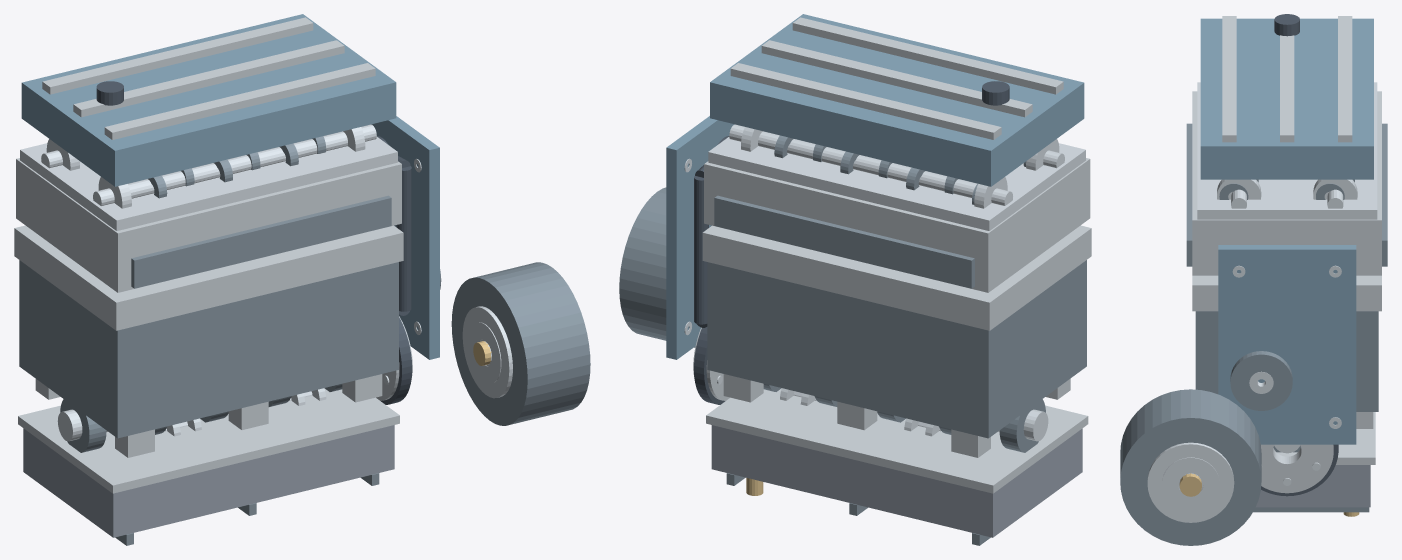
Rendered from fwd-i4-batch-02.glb.
3 views of the same model, side by side, from view 1: azimuth 30°, elevation 25°; view 2: azimuth 150°, elevation 25°; view 3: azimuth 270°, elevation 25° (orthographic). The views are drawn at different scales.
Parts seen in each view (by area): view 1: engine.block.cast, engine.valve.cover, engine.cylinder.head, engine.oil.pan, gearbox.differential.carrier, engine.timing.cover, engine.cam.exhaust, engine.crankshaft, gearbox.differential.side, engine.timing.belt, engine.crankshaft.pulley, engine.cam.intake; view 2: engine.block.cast, engine.valve.cover, engine.cylinder.head, engine.oil.pan, engine.timing.cover, gearbox.differential.carrier, engine.cam.intake, engine.crankshaft, engine.timing.belt, engine.crankshaft.pulley, engine.cam.exhaust; view 3: engine.valve.cover, engine.timing.cover, engine.cylinder.head, gearbox.differential.carrier, engine.block.cast, engine.oil.pan, gearbox.differential.side, engine.crankshaft.pulley, engine.timing.tensioner, engine.cam.intake, engine.cam.exhaust.
Part boxes in pixels (x1,y1,x2,y2): engine.block.cast: (14, 225, 403, 457); engine.valve.cover: (21, 14, 396, 186); engine.cylinder.head: (16, 136, 401, 292); engine.oil.pan: (18, 389, 399, 545); gearbox.differential.carrier: (451, 262, 590, 425); engine.timing.cover: (371, 116, 439, 359); engine.cam.exhaust: (93, 124, 376, 208); engine.crankshaft: (57, 384, 342, 452); gearbox.differential.side: (462, 306, 512, 398); engine.timing.belt: (377, 136, 411, 315); engine.crankshaft.pulley: (376, 316, 412, 404); engine.cam.intake: (41, 139, 79, 170); engine.block.cast: (702, 225, 1091, 457); engine.valve.cover: (710, 14, 1084, 186); engine.cylinder.head: (704, 137, 1090, 292); engine.oil.pan: (706, 388, 1088, 545); engine.timing.cover: (666, 116, 734, 359); gearbox.differential.carrier: (619, 187, 695, 347); engine.cam.intake: (729, 124, 1012, 208); engine.crankshaft: (763, 384, 1048, 452); engine.timing.belt: (694, 136, 729, 327); engine.crankshaft.pulley: (693, 327, 729, 404); engine.cam.exhaust: (1023, 139, 1064, 170); engine.valve.cover: (1200, 14, 1373, 179); engine.timing.cover: (1218, 245, 1356, 444); engine.cylinder.head: (1186, 82, 1387, 275); gearbox.differential.carrier: (1120, 389, 1261, 545); engine.block.cast: (1192, 275, 1381, 428); engine.oil.pan: (1253, 412, 1375, 516); gearbox.differential.side: (1147, 442, 1234, 522); engine.crankshaft.pulley: (1261, 444, 1338, 496); engine.timing.tensioner: (1230, 351, 1292, 410); engine.cam.intake: (1313, 179, 1357, 208); engine.cam.exhaust: (1217, 179, 1261, 208).
Size of the model in its own units: 1.49 by 1.37 by 0.833.
